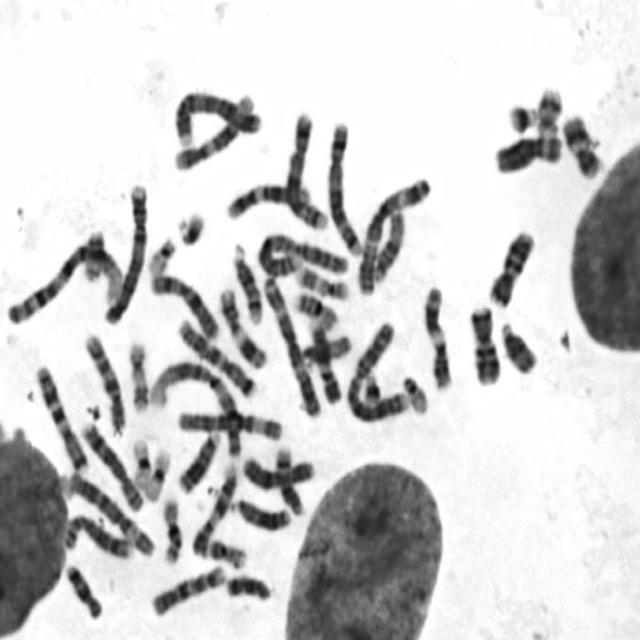A1: (2, 233, 130, 326), (143, 351, 247, 460)
A2: (342, 316, 412, 423), (251, 226, 352, 280)
A3: (352, 169, 433, 296), (260, 268, 324, 419)
B4: (100, 176, 150, 322), (170, 83, 262, 147)
B5: (323, 114, 366, 258), (281, 106, 330, 232)
C10: (80, 326, 127, 435), (146, 558, 229, 618)
C11: (215, 282, 271, 372), (419, 278, 455, 393)
C12: (169, 85, 259, 174), (222, 175, 312, 222)
C6: (64, 466, 158, 559), (172, 402, 286, 442)
C7: (31, 357, 91, 474), (483, 223, 538, 308)
C8: (77, 413, 146, 513), (59, 508, 136, 561)
C9: (188, 457, 240, 557), (304, 313, 344, 405)
D13: (174, 425, 224, 495), (227, 492, 293, 532)
D14: (228, 236, 265, 326), (271, 440, 307, 518)
D15: (368, 204, 408, 284), (296, 327, 352, 369)
E16: (288, 284, 339, 332), (158, 490, 186, 566)
E17: (291, 259, 353, 301), (124, 336, 150, 414)
E18: (62, 557, 105, 621), (222, 567, 274, 603)
F19: (140, 442, 173, 502), (126, 432, 152, 490)
F20: (201, 532, 249, 571), (79, 224, 107, 283)
G21: (504, 96, 542, 134), (174, 205, 207, 248)
G22: (143, 230, 179, 276), (398, 369, 431, 417)
X: (147, 266, 223, 343), (238, 448, 318, 492)
